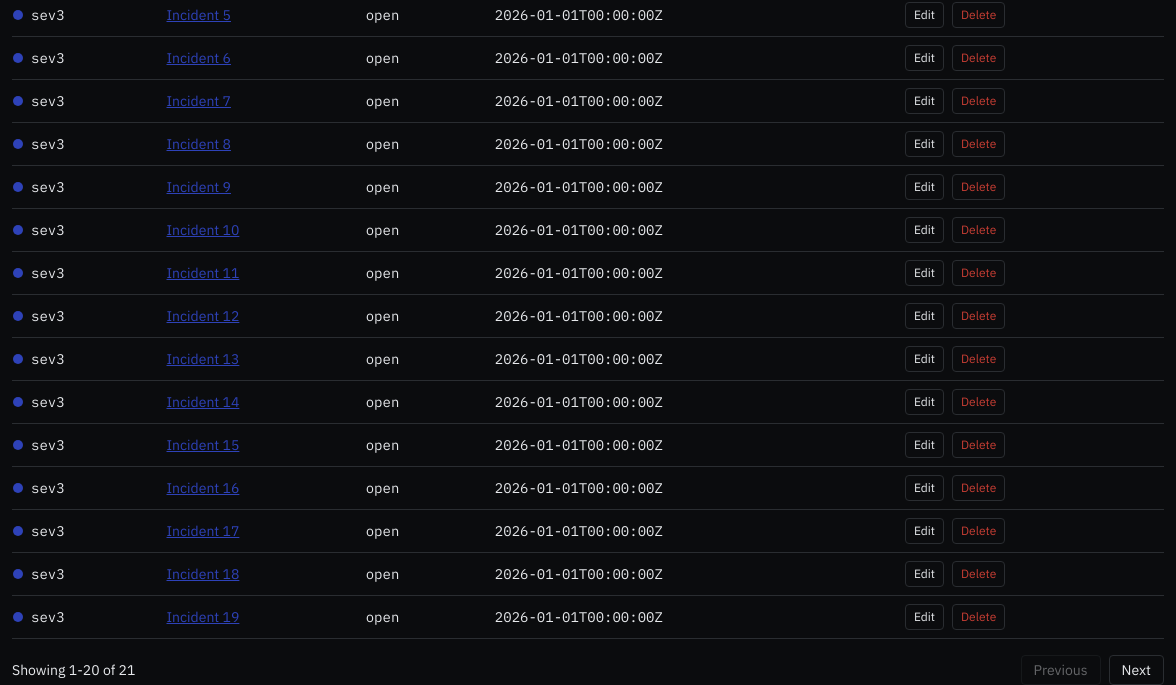
Test: IncidentsListPage › steps pagination back a page after deleting the only row on page 2
This screenshot has width=1176, height=685.
Later steps or results of the test are not shown.
(page scrolled)
Click the button "Next".
click(1136, 670)  # box [1109,655,1164,684]
(page scrolled)
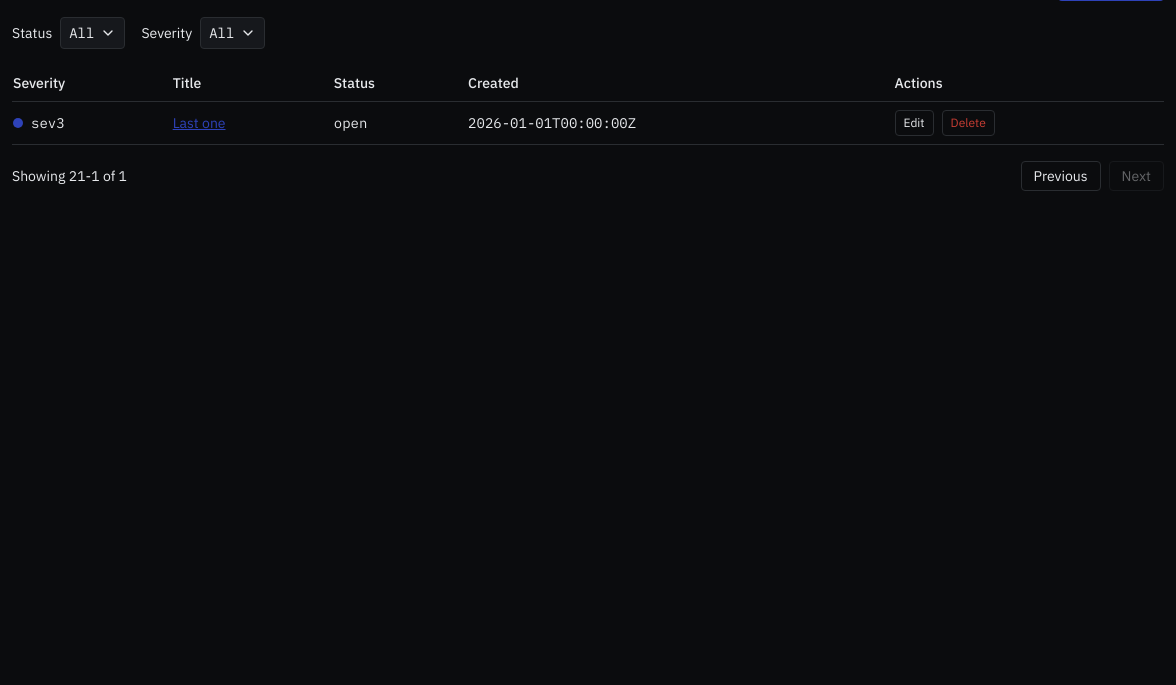
Expected: the link "Last one" is shown, [173,114,226,132]
